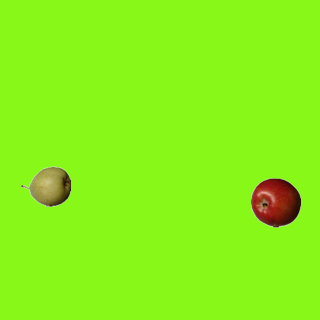Apple Braeburn: (250, 177, 300, 227)
Pear: (20, 161, 70, 211)
